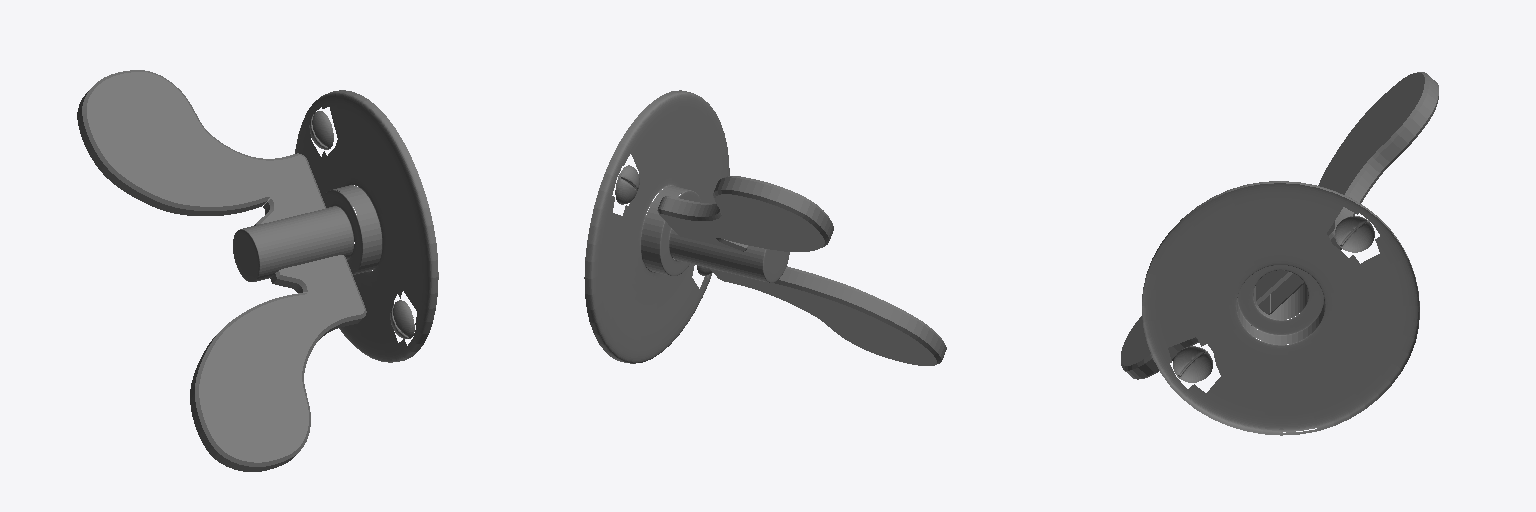
The model's file is leftСircle.obj.
The picture shows the model from 3 angles: view 1: azimuth 30°, elevation 25°; view 2: azimuth 150°, elevation 25°; view 3: azimuth 270°, elevation 25°; orthographic projection.
Parts seen in each view (by area): view 1: felix.003; view 2: felix.003; view 3: felix.003.
Part boxes in pixels (bbox=[...]): felix.003: bbox=[77, 70, 438, 471]; felix.003: bbox=[584, 90, 946, 365]; felix.003: bbox=[1121, 72, 1438, 435].
Size of the model in its own units: 6.82 by 8.28 by 8.28.